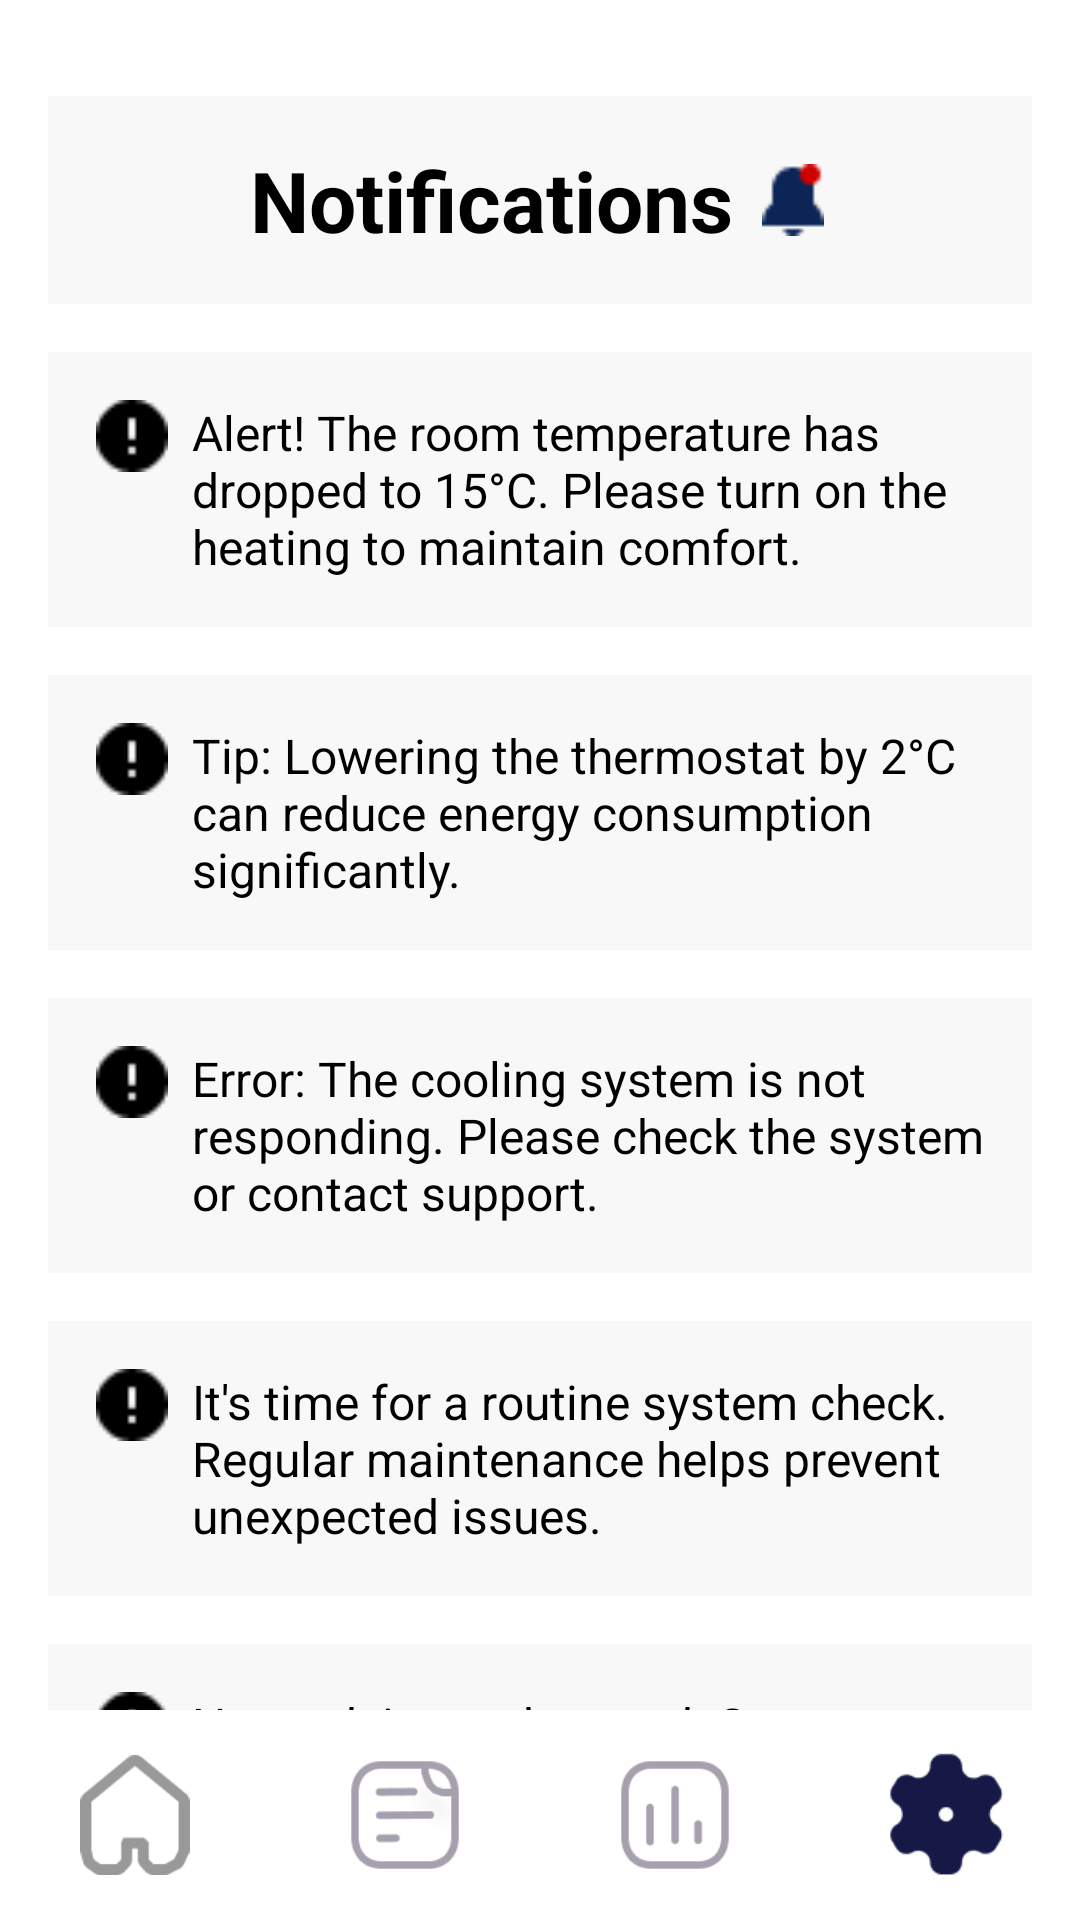

Locate icon controls on the screen. Image size 1080x1920, boxes as (x1, y1, x2, y2).
home: (80, 1755, 190, 1875)
settings: (890, 1753, 1003, 1875)
